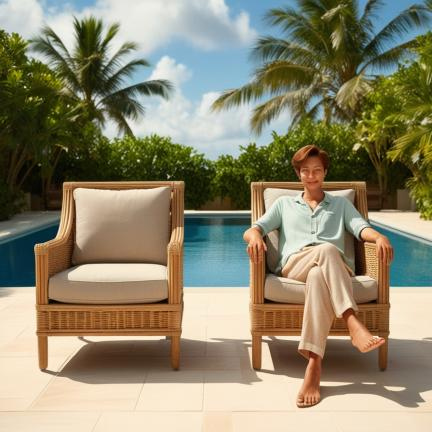empty chair: (35, 181, 184, 370)
guest on chair: (244, 145, 393, 408)
